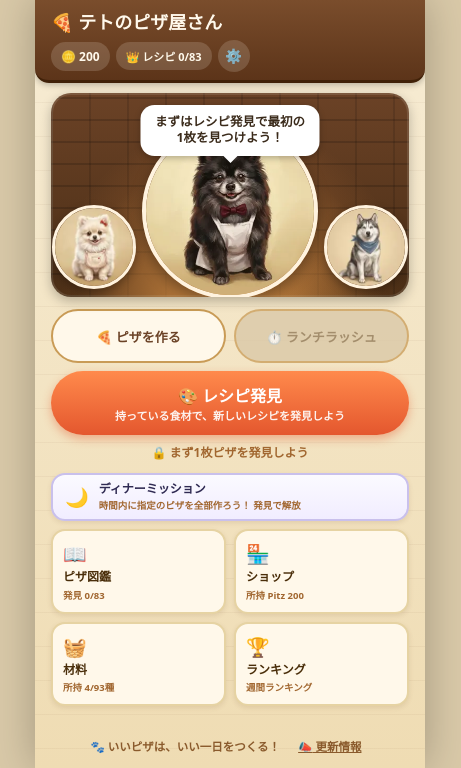
Scenario: Inventory Screen (read-only stock view) › reflects a Shop restock once it lands, when Inventory is reopened
Click the button "🏪 ショップ 所持 Pitz 200": click(322, 572) [234,529,409,614]
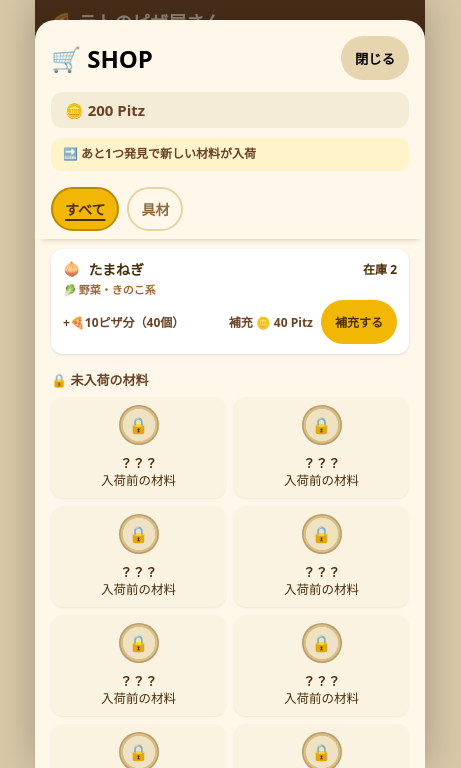
Click the button "補充する": click(359, 322) [321,300,397,344]
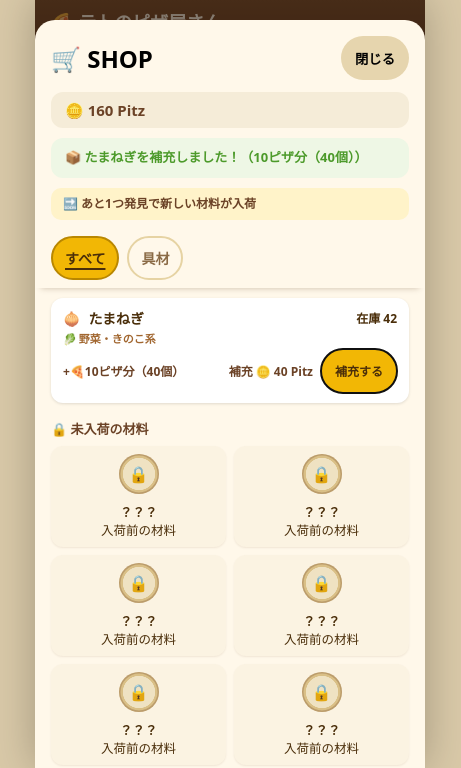
Click the button "閉じる": click(375, 58) [341,36,409,80]
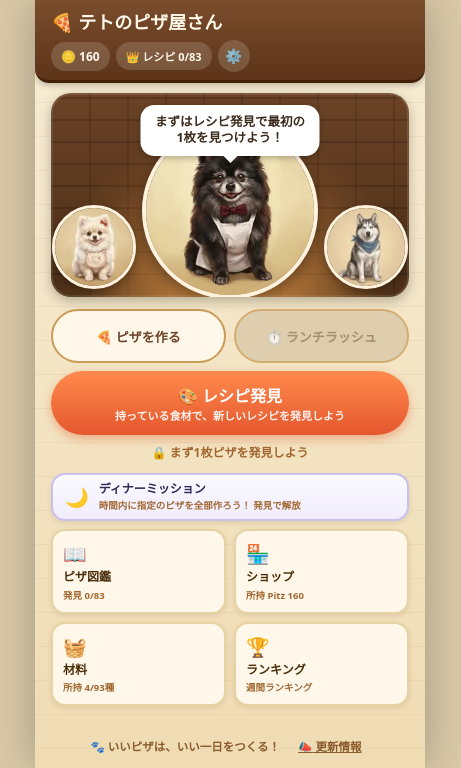
Expected: the element with class "dex-overlay" is gone
Click the button "🧺 材料 所持 4/93種": click(138, 664) [51,622,226,706]
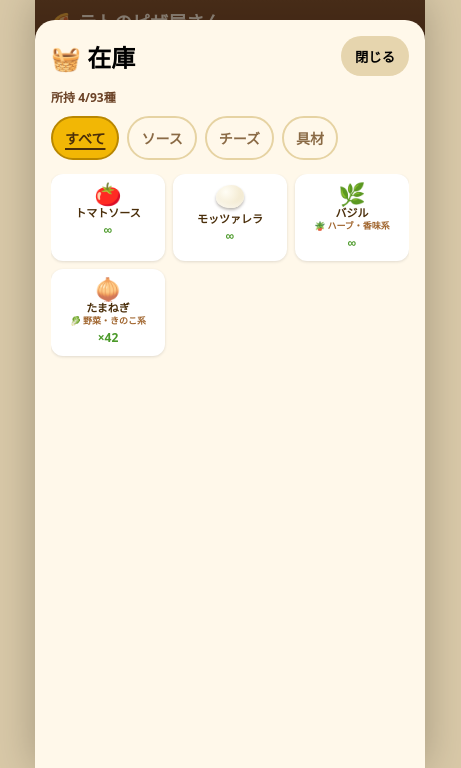
Expected: the text "×42" is shown, [98,329,118,346]
